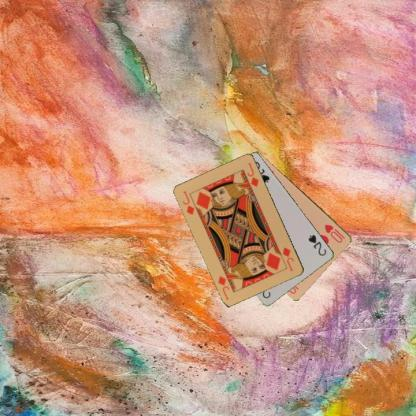10h: (322, 221, 346, 244)
2s: (306, 232, 328, 257)
Jd: (180, 188, 196, 216), (280, 244, 295, 273)
